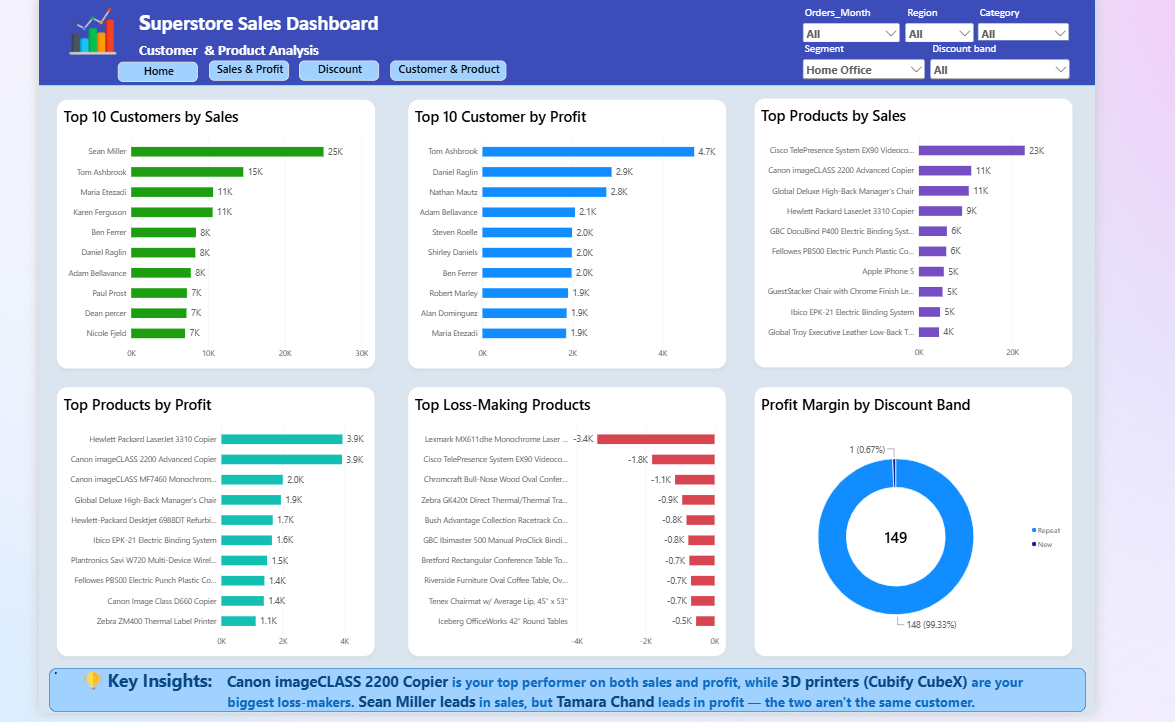

What the dashboard file says about the page in this screenshot:
{"tool":"powerbi","page":{"name":"Customer & Product Analysis","canvas":[1920,1300],"ordinal":3},"visuals":[{"type":"shape","box":[0,0,1920,158.6],"z":0,"group":"g2"},{"type":"group","id":"g1","title":"Group 1","box":[0,0,1920,158.6],"z":0},{"type":"group","id":"g2","title":"Group 2","box":[0,0,1920,158.6],"z":0,"group":"g1"},{"type":"shape","box":[17.4,1217.9,1885.7,80],"z":0,"group":"g3"},{"type":"textbox","box":[181.6,18.8,987.1,60.5],"z":1000,"group":"g2"},{"type":"clusteredBarChart","title":"Top 10 Customers by Sales","fields":{"Category":["superstore_cleaned.Customer_Name"],"Y":["Key Measure.Total Sales"]},"box":[32.2,183,580,490.2],"z":1000},{"type":"textbox","box":[17.7,1217.7,1831.9,80.6],"z":1000,"group":"g3"},{"type":"textbox","box":[181.6,77.2,603.1,52.2],"z":2000,"group":"g2"},{"type":"slicer","fields":{"Values":["superstore_cleaned.Discount band"]},"box":[1615.3,79.3,263,79.3],"z":2000},{"type":"image","box":[65.6,1224.2,65.3,32.7],"z":2000,"group":"g3"},{"type":"slicer","fields":{"Values":["superstore_cleaned.Order_Date.Variation.Date Hierarchy.Year"]},"box":[1383.7,12.5,185.7,66.8],"z":3000},{"type":"slicer","fields":{"Values":["superstore_cleaned.Segment"]},"box":[1383.7,79.3,231.7,79.3],"z":4000},{"type":"slicer","fields":{"Values":["superstore_cleaned.Region"]},"box":[1569.4,12.5,133.6,66.8],"z":5000},{"type":"slicer","fields":{"Values":["superstore_cleaned.Category"]},"box":[1702.9,12.7,175.5,63.3],"z":6000},{"type":"image","box":[32.6,18.1,132.1,85.1],"z":7000},{"type":"donutChart","title":"Profit Margin by Discount Band","fields":{"Category":["superstore_cleaned.Customer Type"],"Y":["Count(superstore_cleaned.Customer_Name)"]},"box":[1298.9,707.8,579.1,490.6],"z":8000},{"type":"clusteredBarChart","title":"Top 10 Customer by Profit","fields":{"Category":["superstore_cleaned.Customer_Name"],"Y":["Key Measure.Total Profit"]},"box":[669.6,183,580,490.2],"z":9000},{"type":"clusteredBarChart","title":"Top Products by Sales","fields":{"Category":["superstore_cleaned.Product_Name"],"Y":["Key Measure.Total Sales"]},"box":[1298.9,181,580,490.2],"z":10000},{"type":"clusteredBarChart","title":"Top Products by Profit","fields":{"Category":["superstore_cleaned.Product_Name"],"Y":["Key Measure.Total Profit"]},"box":[32.2,707.8,579.1,490.6],"z":11000},{"type":"clusteredBarChart","title":" Top Loss-Making Products","fields":{"Category":["superstore_cleaned.Product_Name"],"Y":["Key Measure.Total Profit"]},"box":[669.6,707.8,579.1,490.6],"z":12000},{"type":"group","id":"g3","title":"Group 9","box":[17.4,1217.7,1886.4,80.6],"z":13000}]}

Visuals, with their boxes on the page's 1920x1300 design canvas (x1, y1, x2, y2). These are canvas units, not pixel positions in the 1175x722 screenshot, which may show the page scaled, cropped or inside an application window:
shape: 0:0:1920:159
"Group 1" group: 0:0:1920:159
"Group 2" group: 0:0:1920:159
shape: 17:1218:1903:1298
textbox: 182:19:1169:79
"Top 10 Customers by Sales" clusteredBarChart: 32:183:612:673
textbox: 18:1218:1850:1298
textbox: 182:77:785:129
slicer - superstore_cleaned.Discount band: 1615:79:1878:159
image: 66:1224:131:1257
slicer - superstore_cleaned.Order_Date.Variation.Date Hierarchy.Year: 1384:12:1569:79
slicer - superstore_cleaned.Segment: 1384:79:1615:159
slicer - superstore_cleaned.Region: 1569:12:1703:79
slicer - superstore_cleaned.Category: 1703:13:1878:76
image: 33:18:165:103
"Profit Margin by Discount Band" donutChart: 1299:708:1878:1198
"Top 10 Customer by Profit" clusteredBarChart: 670:183:1250:673
"Top Products by Sales" clusteredBarChart: 1299:181:1879:671
"Top Products by Profit" clusteredBarChart: 32:708:611:1198
" Top Loss-Making Products" clusteredBarChart: 670:708:1249:1198
"Group 9" group: 17:1218:1904:1298
